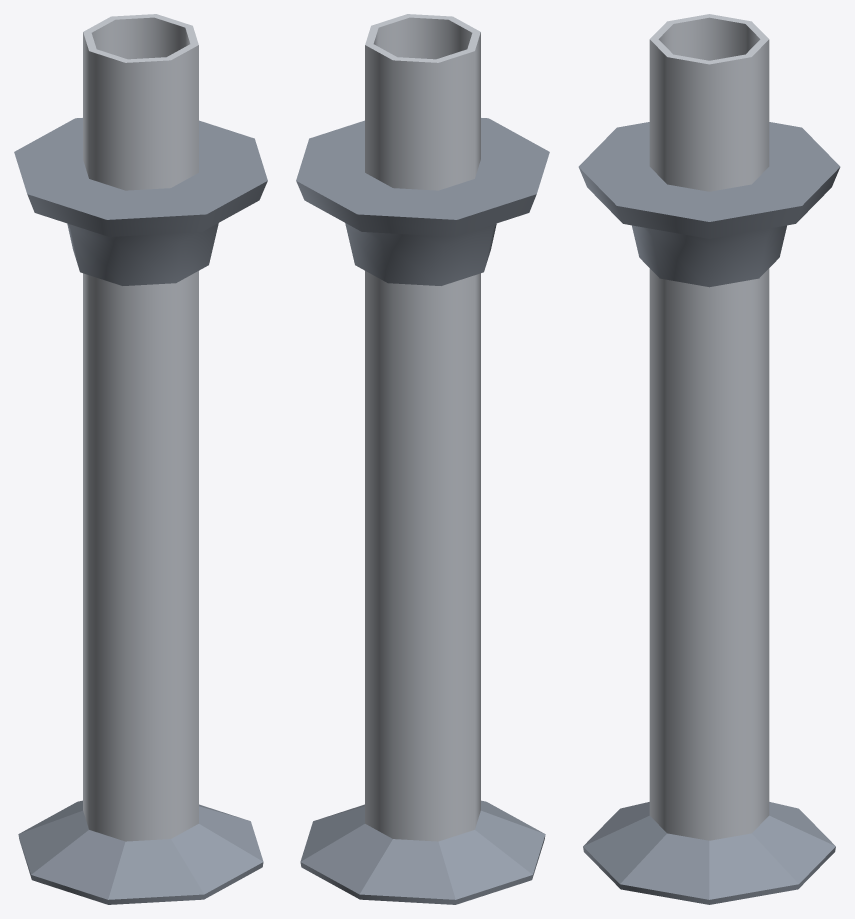
File: bottle_glassware_graduated_cylinder_large_base.glb
3 renders of one model, left to right at view 1: azimuth 30°, elevation 25°; view 2: azimuth 150°, elevation 25°; view 3: azimuth 270°, elevation 25°, orthographic.
Parts seen in each view (by area): view 1: bottle_glassware_graduated_cylinder_large, bottle_glassware_graduated_cylinder_large_line, bottle_glassware_graduated_cylinder_large_base; view 2: bottle_glassware_graduated_cylinder_large, bottle_glassware_graduated_cylinder_large_line, bottle_glassware_graduated_cylinder_large_base; view 3: bottle_glassware_graduated_cylinder_large, bottle_glassware_graduated_cylinder_large_line, bottle_glassware_graduated_cylinder_large_base.
Part boxes in pixels (bbox=[...]): bottle_glassware_graduated_cylinder_large: bbox=[83, 14, 198, 841]; bottle_glassware_graduated_cylinder_large_line: bbox=[14, 118, 267, 285]; bottle_glassware_graduated_cylinder_large_base: bbox=[18, 800, 263, 904]; bottle_glassware_graduated_cylinder_large: bbox=[365, 14, 480, 841]; bottle_glassware_graduated_cylinder_large_line: bbox=[296, 118, 549, 285]; bottle_glassware_graduated_cylinder_large_base: bbox=[300, 800, 545, 904]; bottle_glassware_graduated_cylinder_large: bbox=[649, 14, 769, 840]; bottle_glassware_graduated_cylinder_large_line: bbox=[578, 122, 840, 287]; bottle_glassware_graduated_cylinder_large_base: bbox=[583, 802, 835, 904].
Bounding box in the file's own units: 11.98 × 41.01 × 11.98.
Materials: 2 (2 with a texture image).
